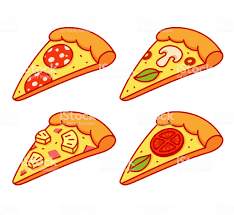pizza: (116, 110, 227, 197), (13, 108, 108, 204), (121, 23, 222, 103), (15, 24, 116, 104)
